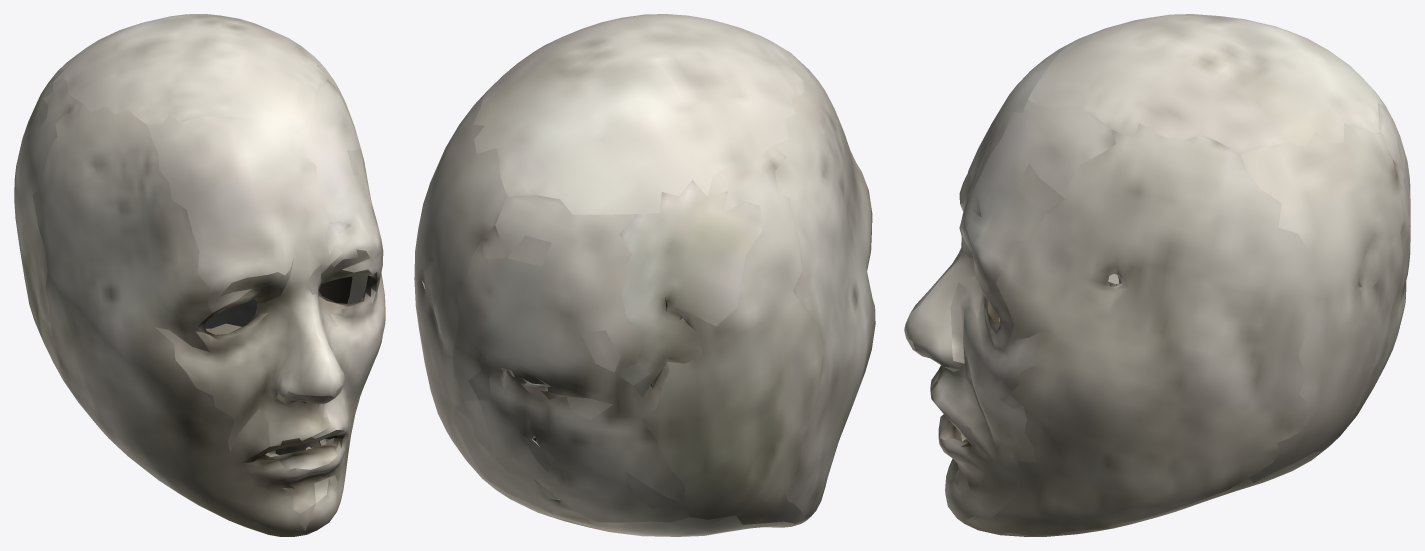
3 renders of one model, left to right at view 1: azimuth 30°, elevation 25°; view 2: azimuth 150°, elevation 25°; view 3: azimuth 270°, elevation 25°, orthographic. The views are drawn at different scales.
Visible parts, largest first — view 1: geometry_0; view 2: geometry_0; view 3: geometry_0.
Part boxes in pixels (x1=…): geometry_0: x1=14, y1=14, x2=385, y2=536; geometry_0: x1=414, y1=14, x2=875, y2=536; geometry_0: x1=904, y1=14, x2=1410, y2=536.
Bounding box in the file's own units: 0.24 × 0.3334 × 0.3134.
Materials: 1 (1 with a texture image).
